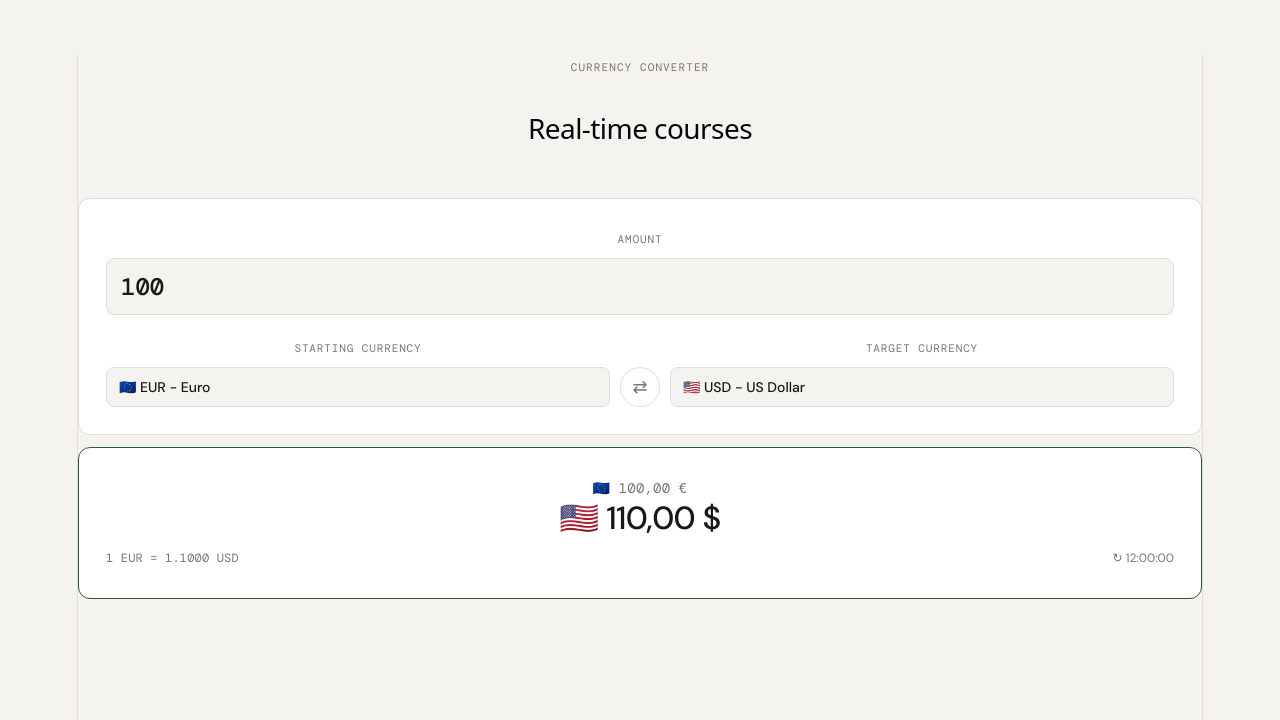
Test: App amount input › reads a space as a thousands separator instead of silently converting 1 (regression)
Replace the text in the field labelled "Amount" with "1 000". click: x=640, y=286
box: [106,258,1174,315]
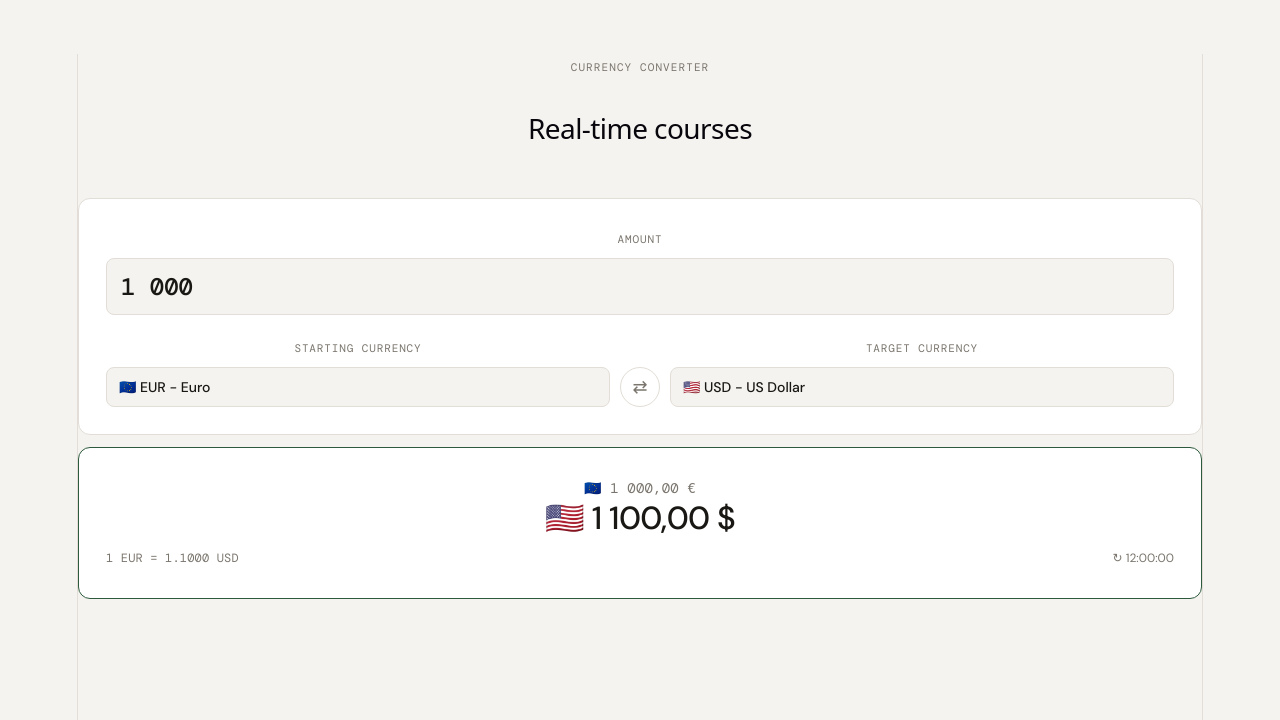
Check: the text "🇪🇺 1 000,00 €" is shown, box [584,479,696,497]
